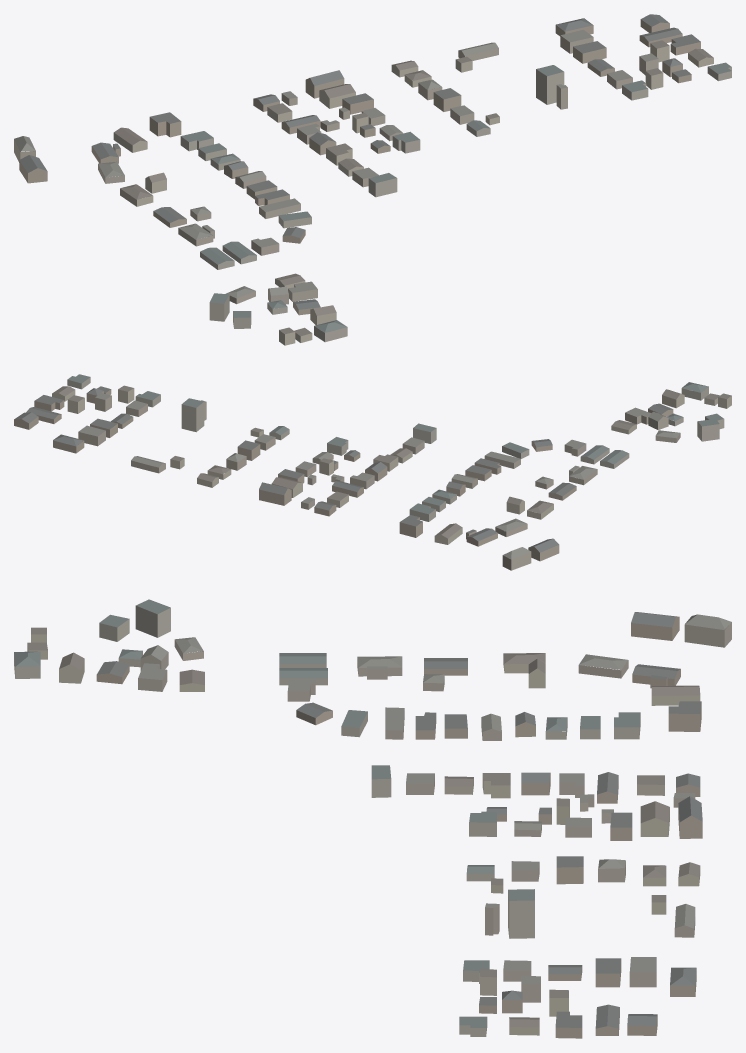
Rendered from 2431b7135cf1-chunk-1203_11839.glb.
3 renders of one model, top to bottom at view 1: azimuth 30°, elevation 25°; view 2: azimuth 150°, elevation 25°; view 3: azimuth 270°, elevation 25°, orthographic. The views are drawn at different scales.
Parts seen in each view (by area): view 1: building_154066, building_14519, building_111632, building_123844, building_117278, building_107575, building_151600, building_40894, building_117714, building_10417, building_101584, building_46400; view 2: building_154066, building_111632, building_30499, building_123844, building_46400, building_56248, building_14519, building_11848, building_40894, building_109285, building_86960, building_20164 (+17 smaller); view 3: building_154066, building_30499, building_123844, building_46400, building_117278, building_14519, building_111632, building_86960, building_40894, building_11848, building_56248, building_48965 (+14 smaller).
Part boxes in pixels (x1=…): building_154066: x1=536, y1=65, x2=564, y2=104; building_14519: x1=149, y1=112, x2=181, y2=137; building_111632: x1=305, y1=70, x2=344, y2=98; building_123844: x1=19, y1=155, x2=47, y2=183; building_117278: x1=319, y1=84, x2=355, y2=108; building_107575: x1=368, y1=173, x2=397, y2=197; building_151600: x1=573, y1=41, x2=606, y2=63; building_40894: x1=113, y1=127, x2=147, y2=152; building_117714: x1=259, y1=198, x2=300, y2=218; building_10417: x1=314, y1=320, x2=347, y2=342; building_101584: x1=178, y1=223, x2=213, y2=246; building_46400: x1=209, y1=293, x2=229, y2=321; building_154066: x1=181, y1=398, x2=204, y2=432; building_111632: x1=259, y1=482, x2=291, y2=505; building_30499: x1=502, y1=547, x2=531, y2=570; building_123844: x1=528, y1=538, x2=559, y2=561; building_46400: x1=697, y1=419, x2=719, y2=441; building_56248: x1=53, y1=434, x2=84, y2=453; building_14519: x1=399, y1=515, x2=422, y2=537; building_11848: x1=78, y1=425, x2=105, y2=446; building_40894: x1=434, y1=523, x2=462, y2=544; building_109285: x1=131, y1=456, x2=165, y2=473; building_86960: x1=495, y1=518, x2=527, y2=536; building_20164: x1=466, y1=528, x2=497, y2=546; building_154066: x1=508, y1=889, x2=534, y2=938; building_30499: x1=684, y1=614, x2=731, y2=647; building_123844: x1=631, y1=612, x2=679, y2=640; building_46400: x1=135, y1=599, x2=170, y2=637; building_117278: x1=640, y1=801, x2=669, y2=836; building_14519: x1=668, y1=701, x2=701, y2=731; building_111632: x1=678, y1=796, x2=702, y2=838; building_86960: x1=578, y1=654, x2=628, y2=678; building_40894: x1=651, y1=685, x2=700, y2=705; building_11848: x1=629, y1=957, x2=656, y2=987; building_56248: x1=670, y1=967, x2=696, y2=996; building_48965: x1=556, y1=856, x2=583, y2=884.
Bounding box in the file's own units: 364 × 15.46 × 266.
